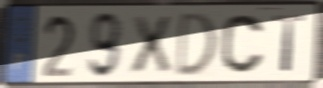2: (40, 12, 80, 79)
9: (87, 10, 125, 81)
C: (220, 13, 267, 76)
D: (174, 10, 219, 80)
T: (272, 13, 308, 74)
X: (129, 13, 174, 76)
